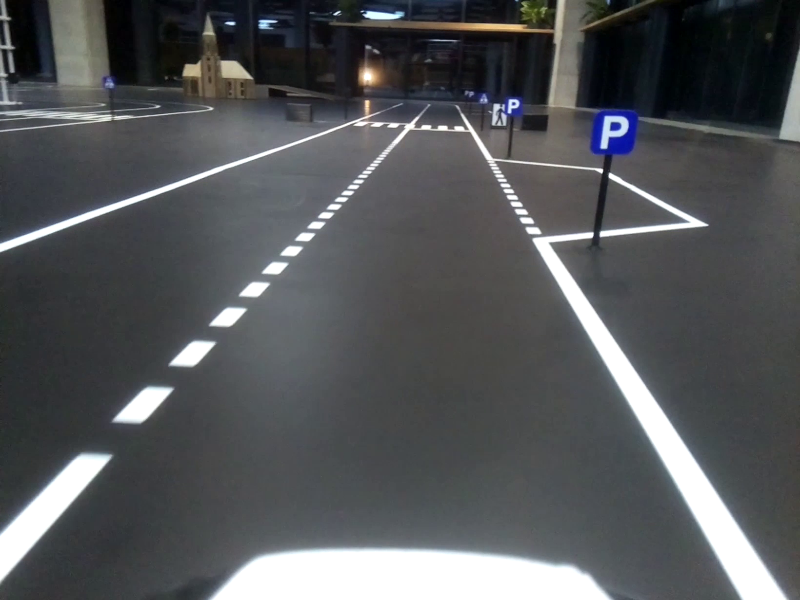park: (590, 107, 634, 154)
